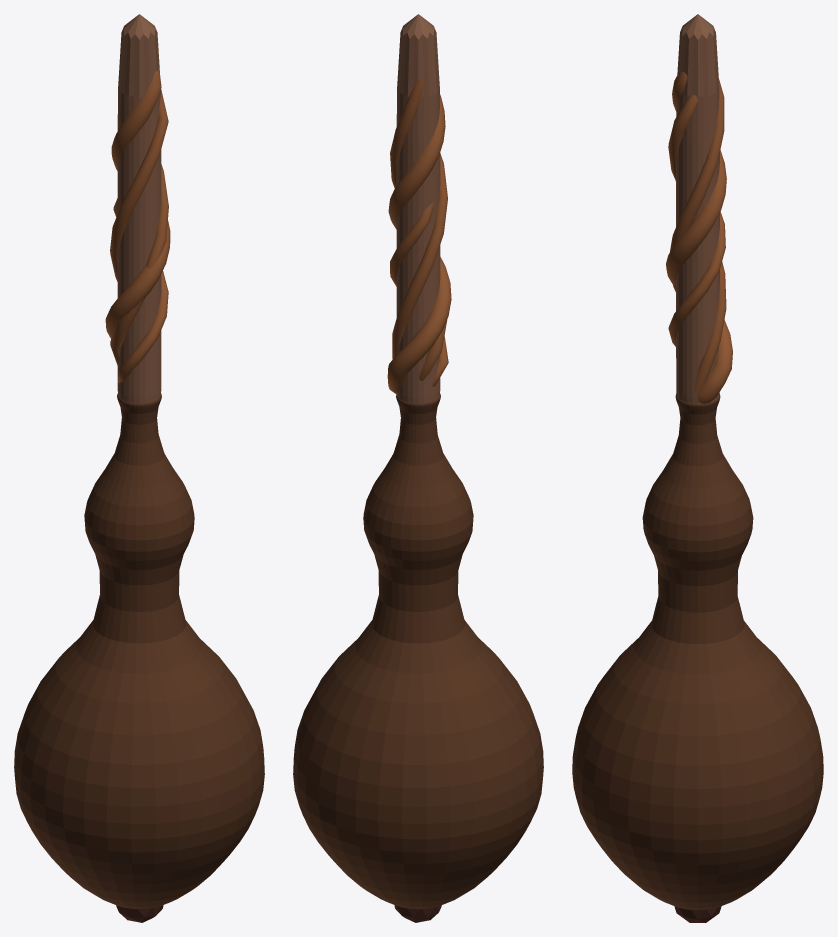
The model's file is Wand 670.glb.
3 renders of one model, left to right at view 1: azimuth 30°, elevation 25°; view 2: azimuth 150°, elevation 25°; view 3: azimuth 270°, elevation 25°, orthographic.
Parts seen in each view (by area): view 1: GeneratedWand; view 2: GeneratedWand; view 3: GeneratedWand.
Part boxes in pixels (left/top/right/bottom): GeneratedWand: left=14, top=14, right=264, bottom=922; GeneratedWand: left=293, top=14, right=543, bottom=922; GeneratedWand: left=572, top=14, right=823, bottom=922.
Bounding box in the file's own units: 0.123 × 0.4895 × 0.123.
